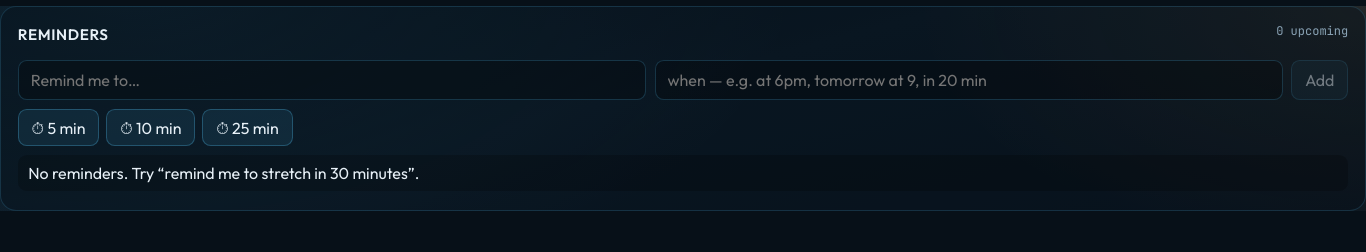
Scenario: RemindersPanel › shows the server's explanation when a time is not understood
Type "x" into the field named "What to remember" at (332, 80), box [18,60,646,100]
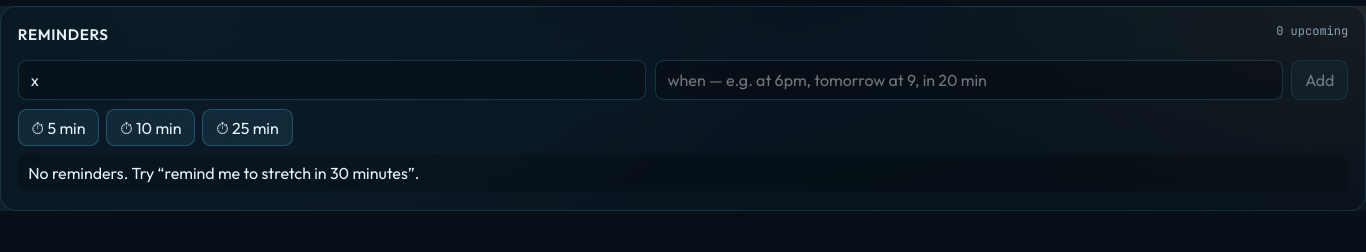
Type "someday" into the field labelled "when" at (969, 80), box [655,60,1283,100]
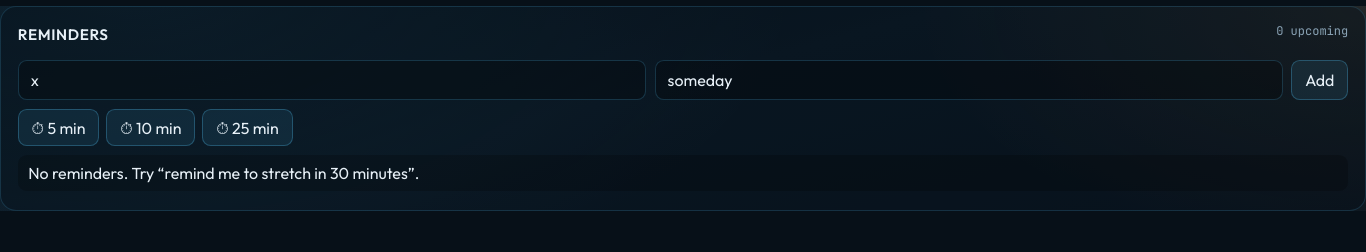
Click the button "Add" at (1320, 80), box [1291,60,1348,100]
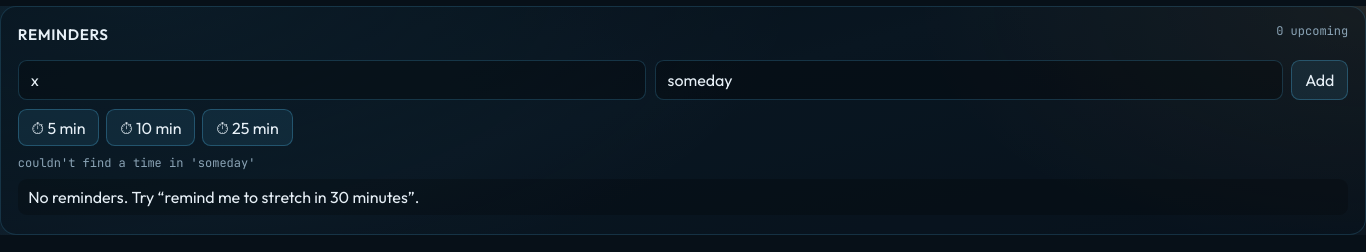
expect the message reads "couldn't find a time in 'someday'": met, box [18,155,255,171]
